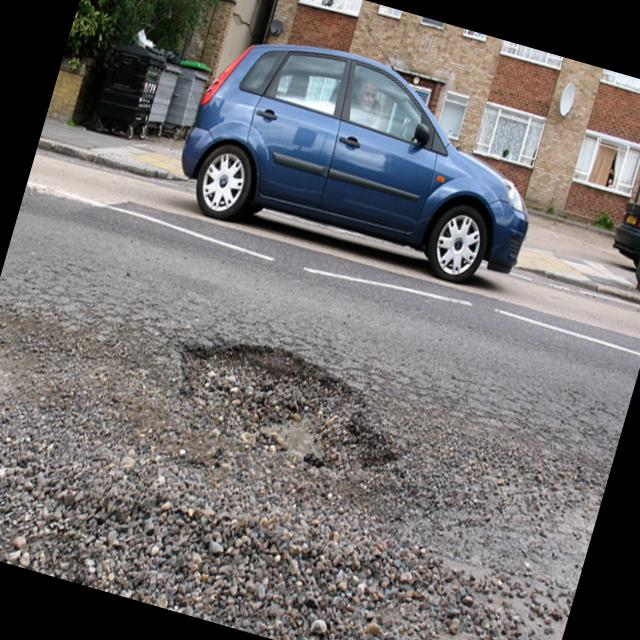Potholes: (0, 396, 499, 640), (125, 292, 428, 538)
